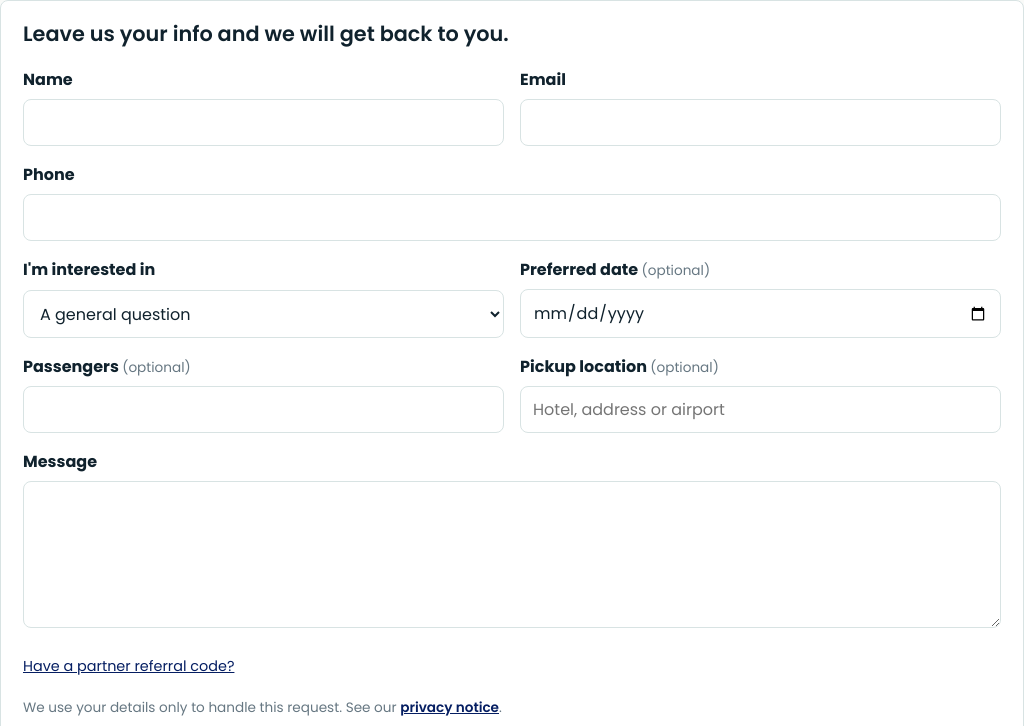
website enquiry form › disables the submit button while sending to prevent double submissions
The image size is (1024, 726).
Type "Thandi Nkosi" into the field labelled "Name" at (264, 123), box x1=23 y1=100 x2=504 y2=146
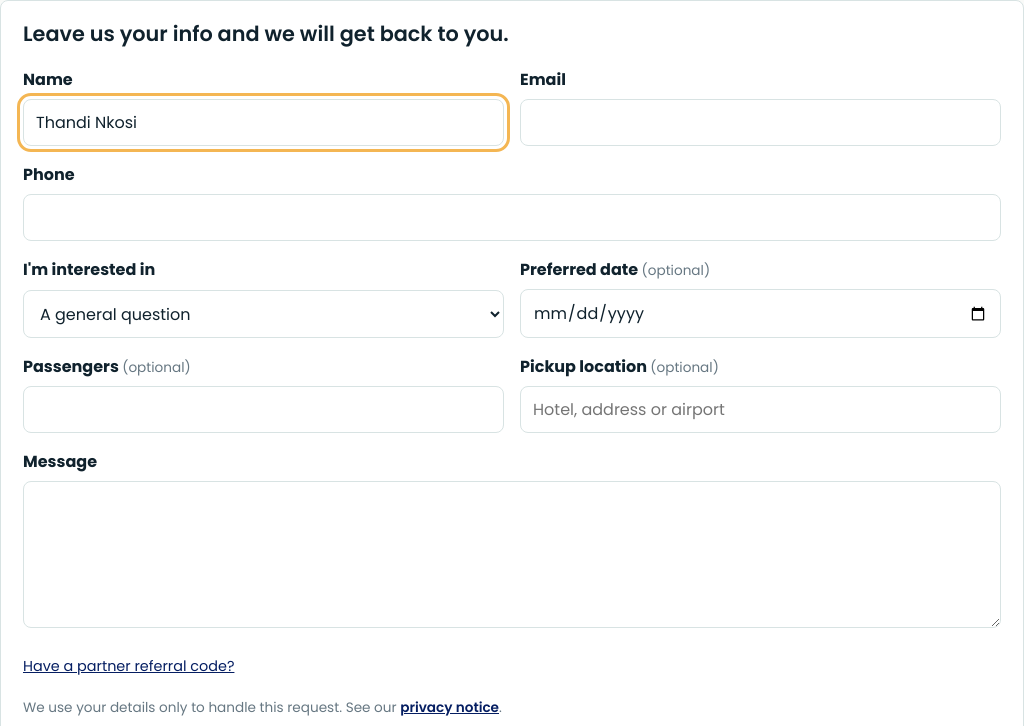
Type "thandi@example.com" into the field labelled "Email" at (760, 123), box x1=520 y1=100 x2=1001 y2=146
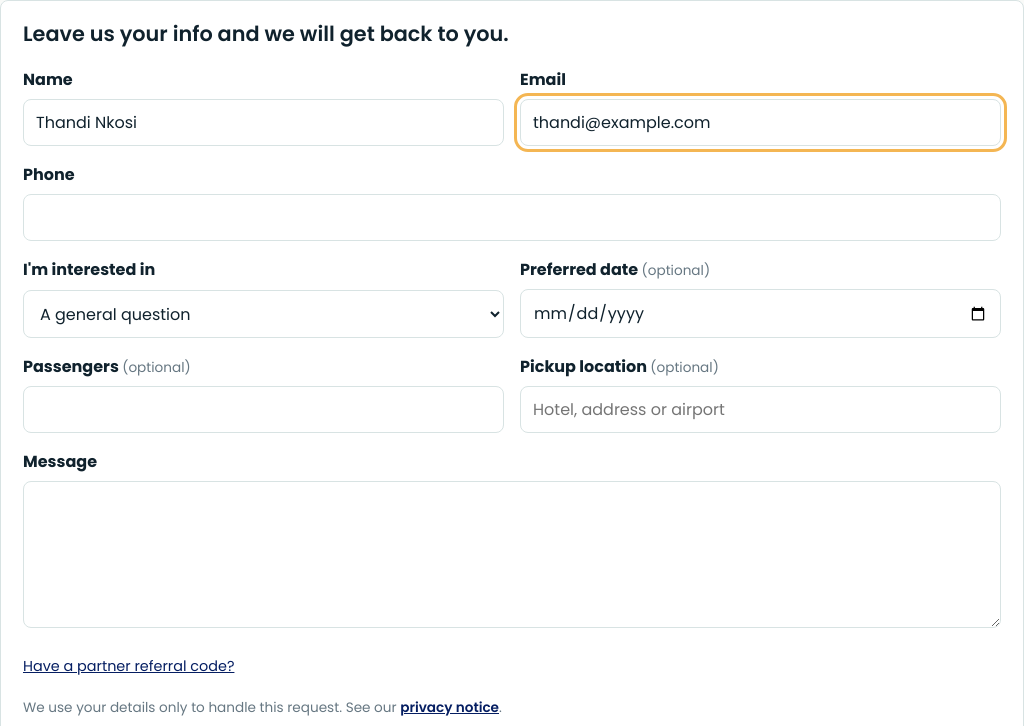
Type "Can you collect us from the airport?" into the text box labelled "Message" at (512, 555), box x1=23 y1=482 x2=1001 y2=628
(page scrolled)
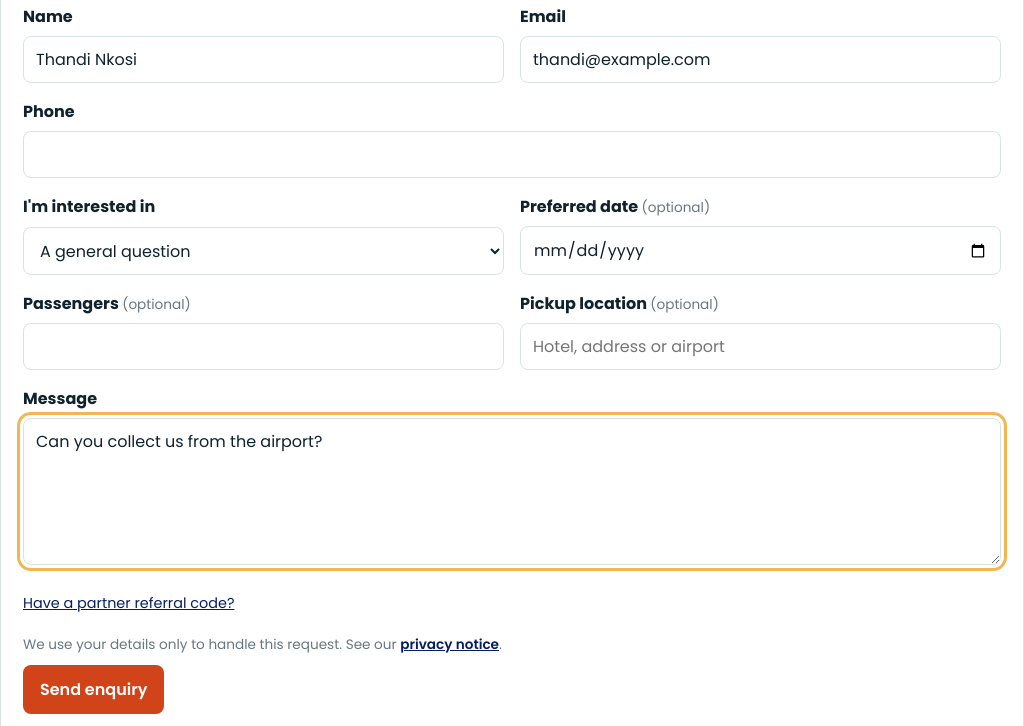
Click the button "Send enquiry" at (94, 689), box x1=23 y1=665 x2=164 y2=714
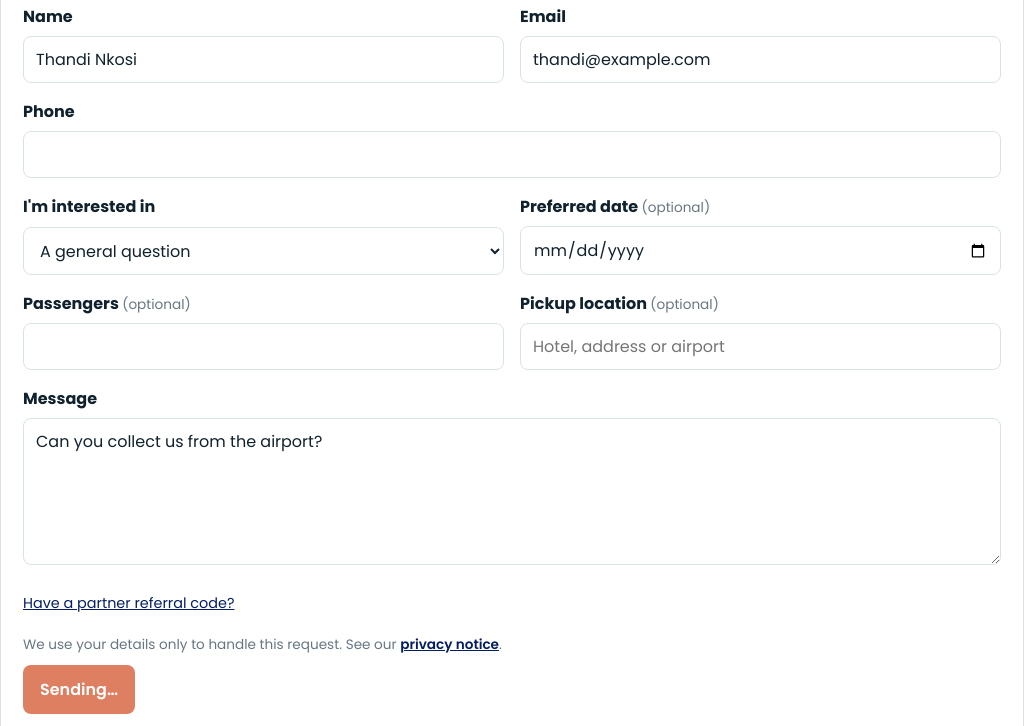
expect the button "Sending…" is disabled: met
Click the button "Sending…" at (79, 689), box x1=23 y1=665 x2=135 y2=714
(page scrolled)
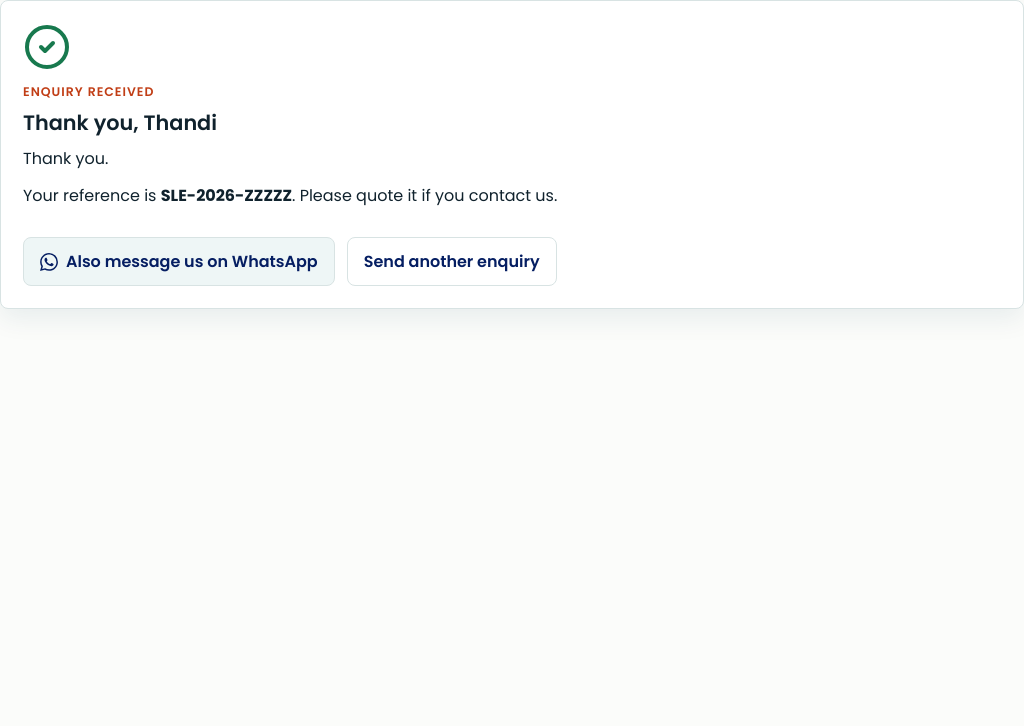
expect the text "Enquiry received" is shown: met, box x1=23 y1=81 x2=154 y2=102
